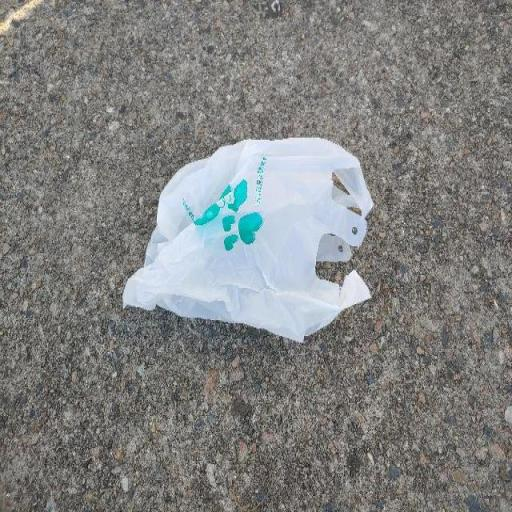plastic-bag: (118, 132, 376, 348)
